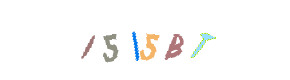1: (101, 0, 181, 80)
5: (96, 0, 176, 80), (104, 0, 184, 80)
B: (118, 0, 198, 80)
I: (95, 0, 175, 80)
T: (148, 0, 228, 80)
